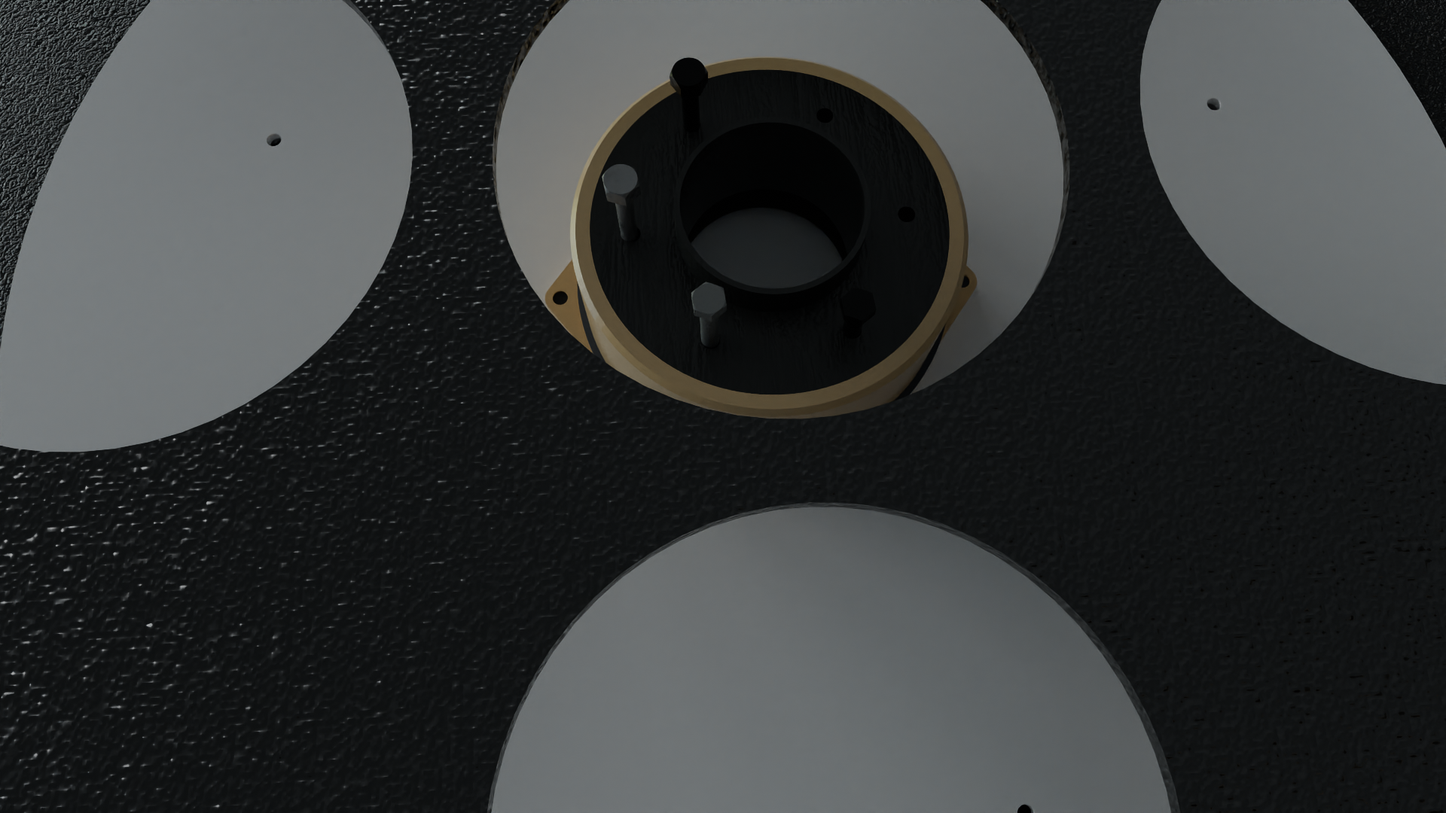bolt: (602, 164, 639, 198), (691, 282, 727, 316), (670, 57, 708, 89), (841, 288, 876, 321)
